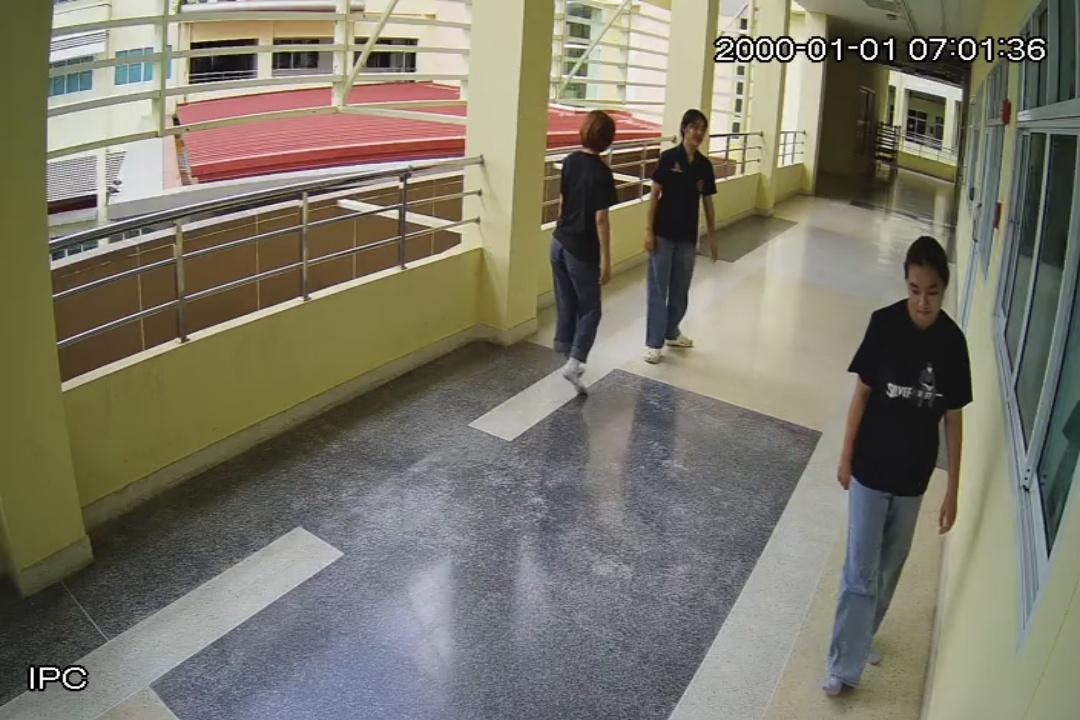normal: (827, 236, 974, 683), (545, 110, 619, 402), (646, 106, 723, 362)
